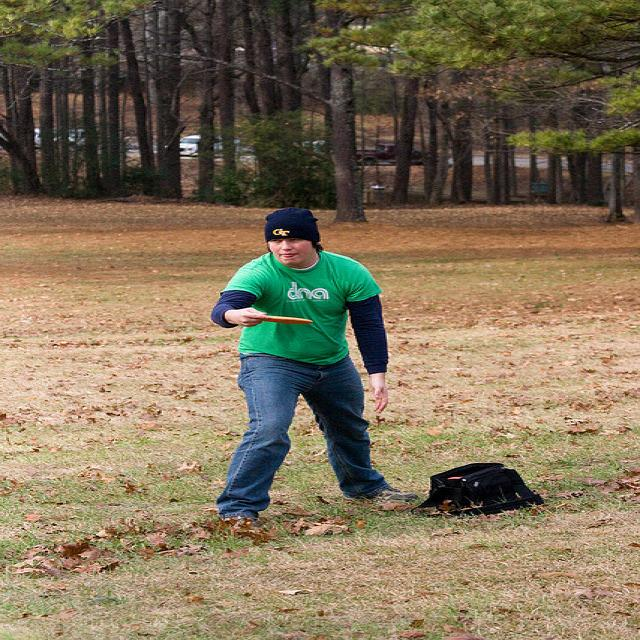Vehicle: (356, 144, 423, 166), (34, 128, 86, 148), (178, 134, 200, 156)
